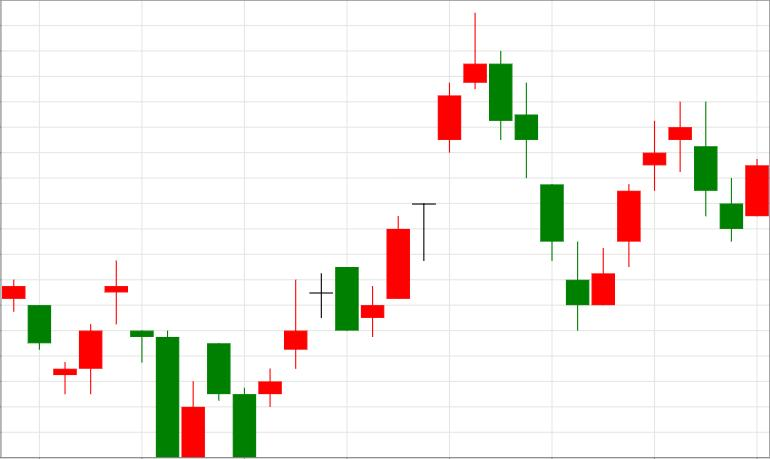shooting_star_fall: (361, 13, 488, 338)
